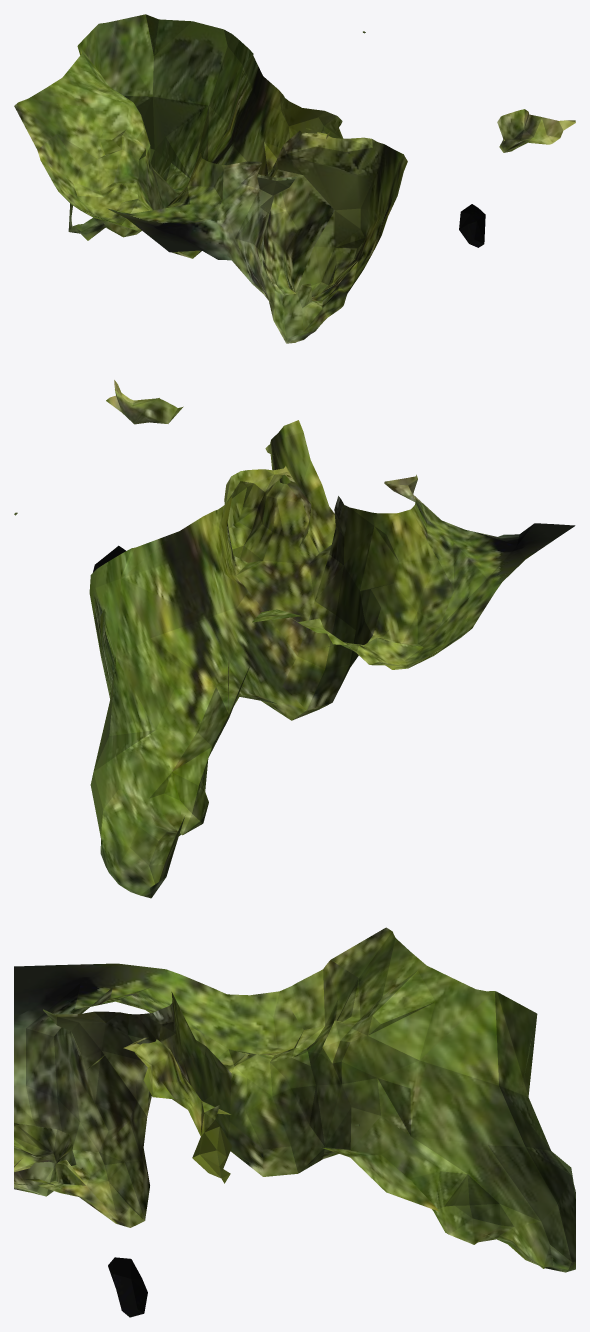
The picture shows the model from 3 angles, top to bottom: view 1: azimuth 30°, elevation 25°; view 2: azimuth 150°, elevation 25°; view 3: azimuth 270°, elevation 25°; orthographic projection. The views are drawn at different scales.
Size of the model in its own units: 2.95 by 1.51 by 2.95.
Materials: 3 (3 with a texture image).
